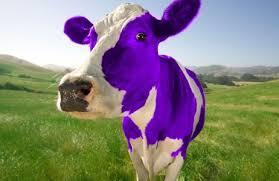cow: (56, 0, 205, 181)
